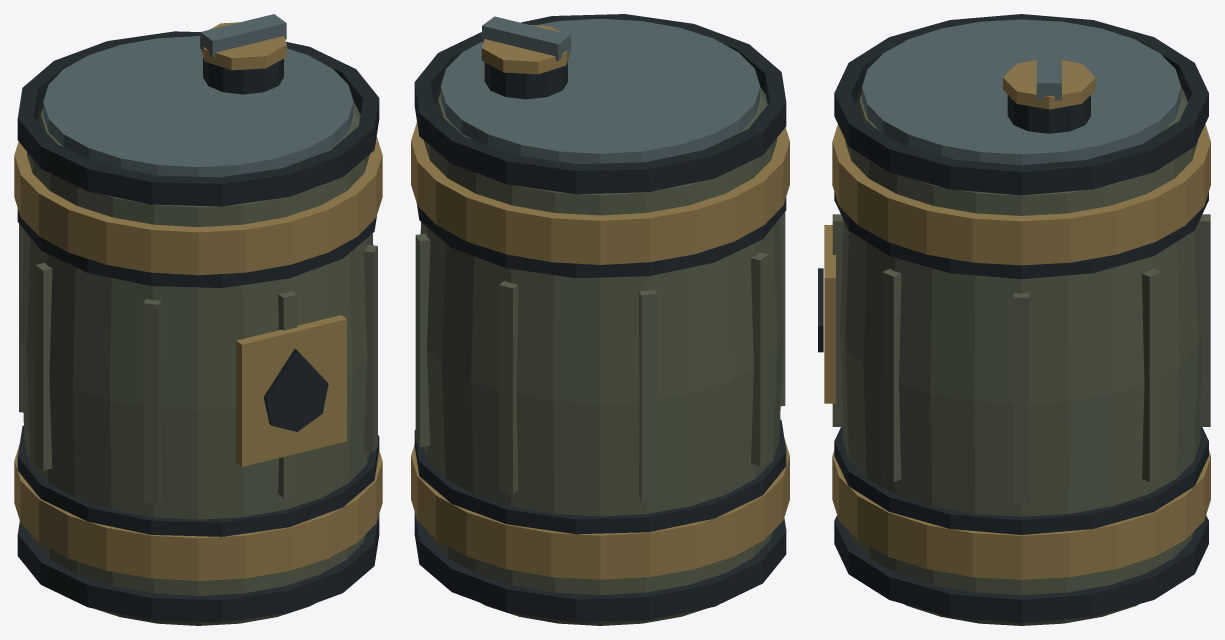
File: FUEL_BARREL.lo.glb
3 views of the same model, side by side, from view 1: azimuth 30°, elevation 25°; view 2: azimuth 150°, elevation 25°; view 3: azimuth 270°, elevation 25° (orthographic). The views are drawn at different scales.
Parts seen in each view (by area): view 1: Body_Mesh; view 2: Body_Mesh; view 3: Body_Mesh.
Part boxes in pixels (x1,y1,x2,y2): Body_Mesh: (14, 14, 382, 625); Body_Mesh: (411, 14, 789, 625); Body_Mesh: (818, 14, 1210, 625).
Size of the model in its own units: 0.818 by 1.24 by 0.849.
